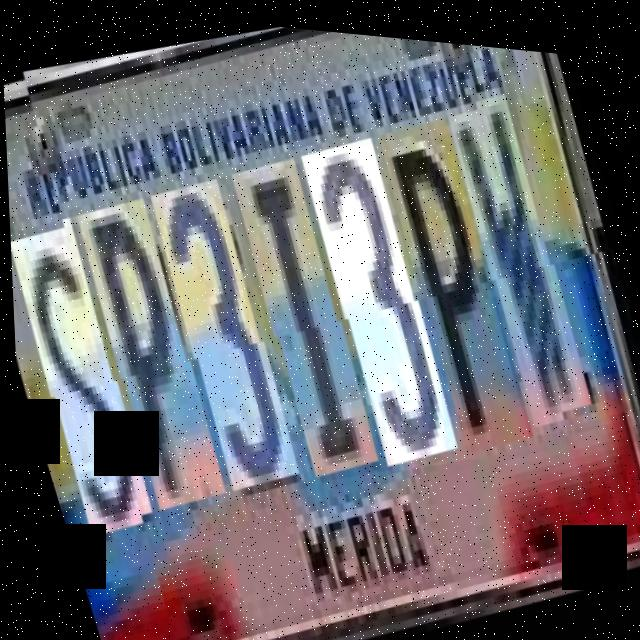3: (296, 129, 470, 470), (144, 172, 310, 495)
I: (226, 151, 390, 481)
P: (373, 110, 546, 457), (69, 191, 235, 515)
S: (7, 212, 161, 533)
W: (444, 94, 606, 429)
